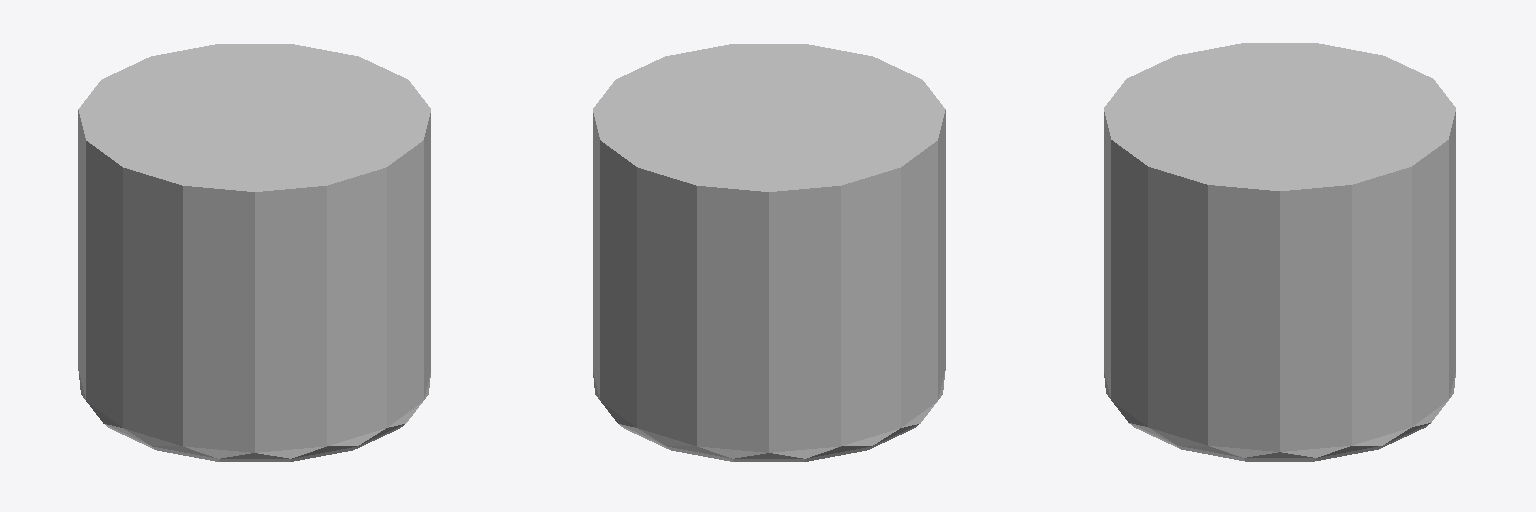
Rendered from Power.obj.
3 renders of one model, left to right at view 1: azimuth 30°, elevation 25°; view 2: azimuth 150°, elevation 25°; view 3: azimuth 270°, elevation 25°, orthographic.
Visible parts, largest first — view 1: Power; view 2: Power; view 3: Power.
Part boxes in pixels (left/top/right/bottom): Power: left=78, top=44, right=430, bottom=461; Power: left=593, top=44, right=945, bottom=461; Power: left=1104, top=43, right=1455, bottom=461.
Size of the model in its own units: 3.67 by 3.2 by 3.68.